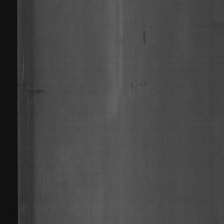rolled_pit: (17, 75, 58, 105), (125, 78, 152, 102), (139, 29, 148, 47)
